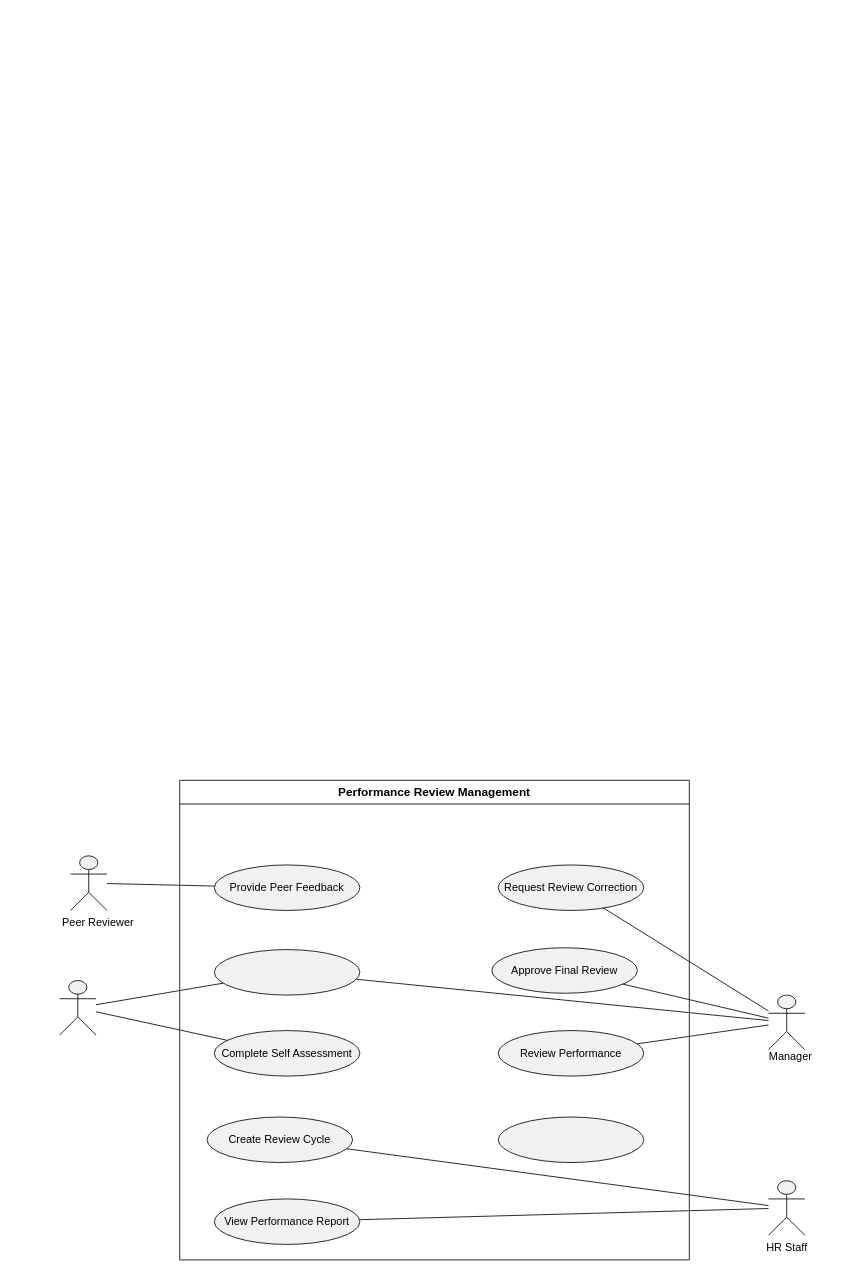
The diagram is 850 pixels wide and 1284 high, and some of its shapes have lost their labels. Each missing label, with the centre of its shape:
Publish Review Result: point 570,1139
View Review History: point 286,972
